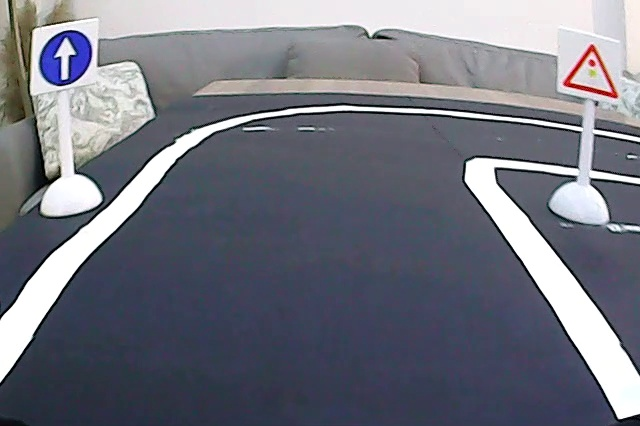red light: (560, 34, 619, 96)
